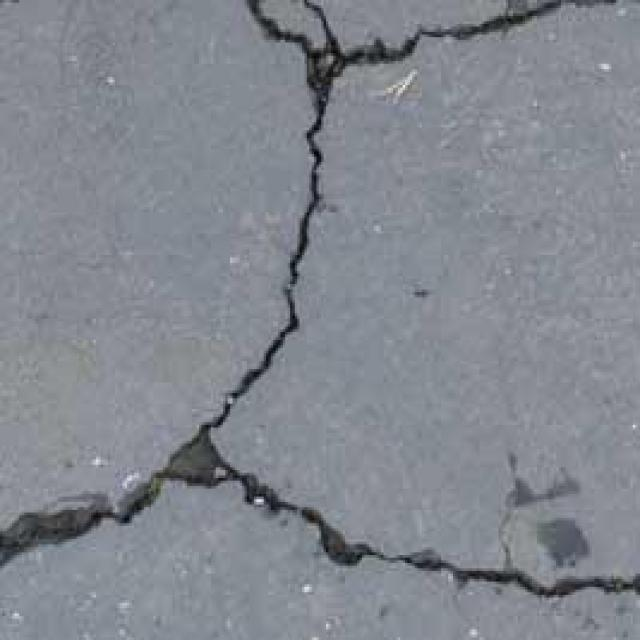multi-branched crack: (0, 0, 638, 603)
